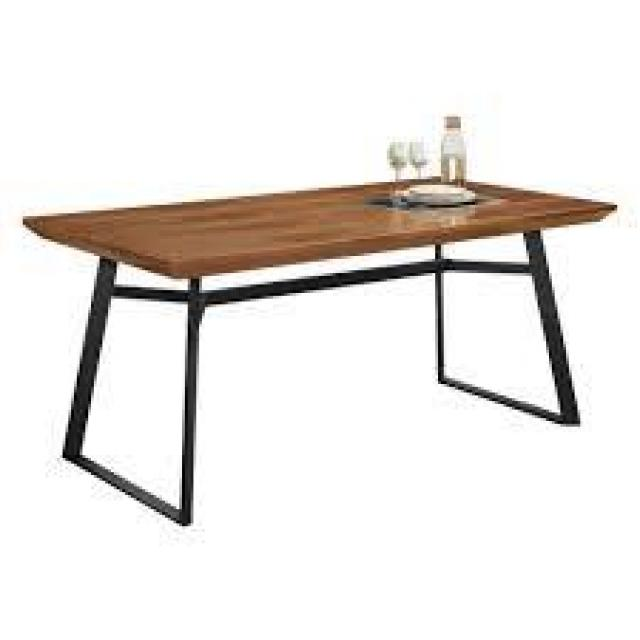table: (11, 90, 620, 550)
